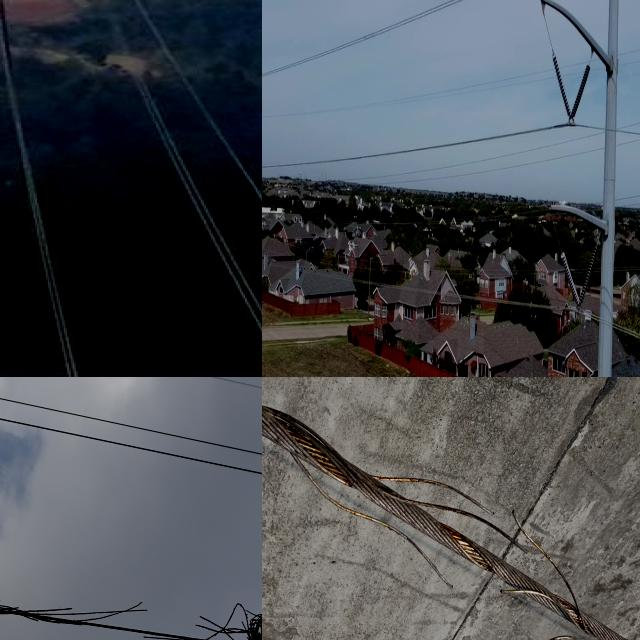杆塔: (0, 0, 93, 175)
正常电缆: (92, 0, 262, 335), (0, 0, 104, 377), (302, 114, 559, 176), (318, 0, 479, 69), (335, 268, 569, 314), (585, 304, 640, 349)
正常绝缘子: (546, 57, 596, 130), (560, 243, 601, 310)
电缆破损: (302, 377, 636, 552), (0, 551, 262, 640)
